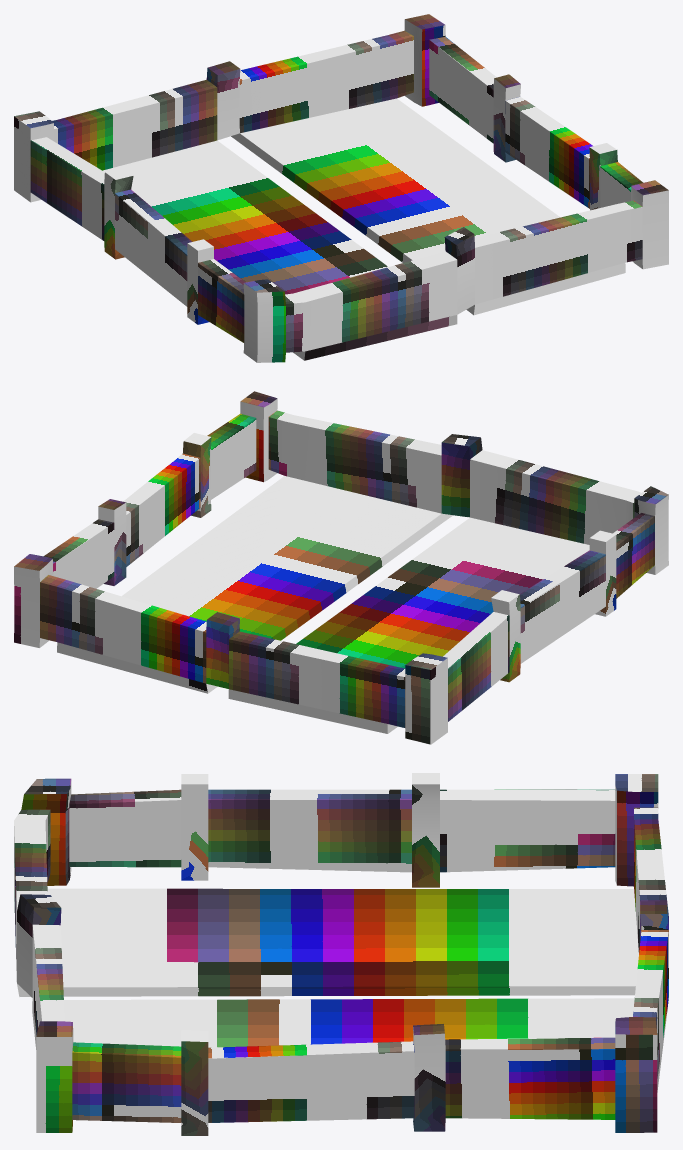
File: NativePlainFarm.fbx
The picture shows the model from 3 angles, top to bottom: view 1: azimuth 30°, elevation 25°; view 2: azimuth 150°, elevation 25°; view 3: azimuth 270°, elevation 25°; orthographic projection. The views are drawn at different scales.
Visible parts, largest first — view 1: PlainAnanasFarm.001; view 2: PlainAnanasFarm.001; view 3: PlainAnanasFarm.001.
Boxes of the visible parts, x1=… form: PlainAnanasFarm.001: x1=14, y1=14, x2=668, y2=362; PlainAnanasFarm.001: x1=14, y1=391, x2=668, y2=744; PlainAnanasFarm.001: x1=14, y1=773, x2=668, y2=1135.
Size of the model in its own units: 202 by 37.02 by 211.
